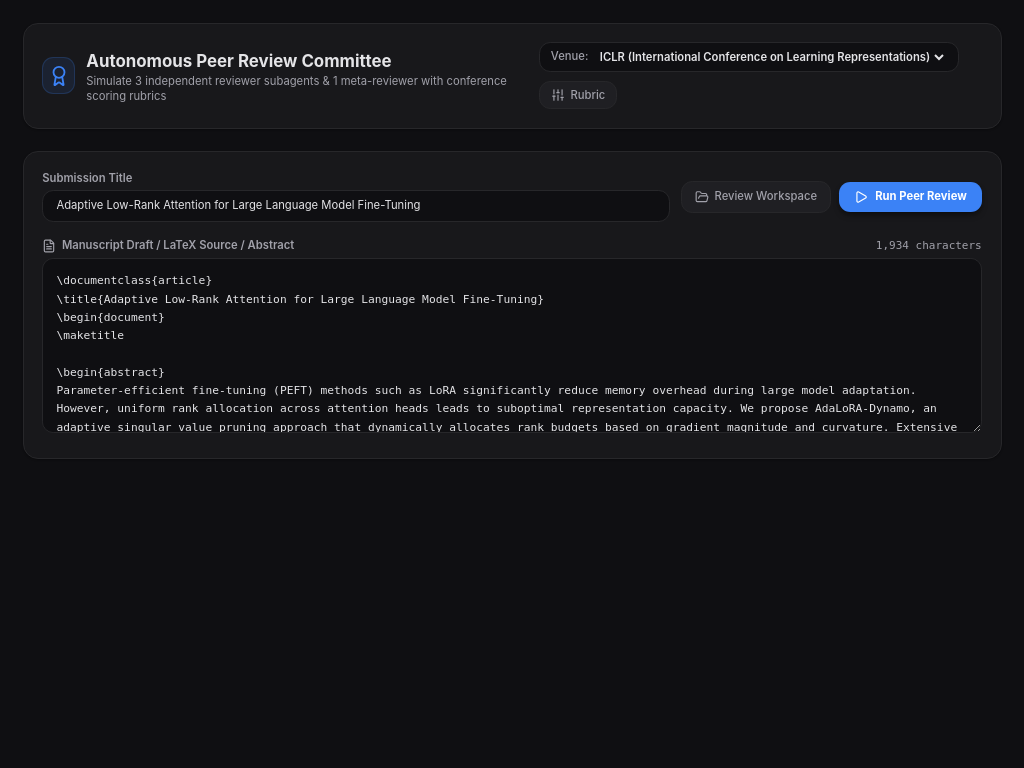
Test: PeerReviewStudio › executes peer review simulation and displays results
This screenshot has width=1024, height=768.
What coordinates should you click on to do the following:
click the button "Run Peer Review"
I would click on:
 (910, 196)
Its box is left=839, top=182, right=982, bottom=212.
(page scrolled)
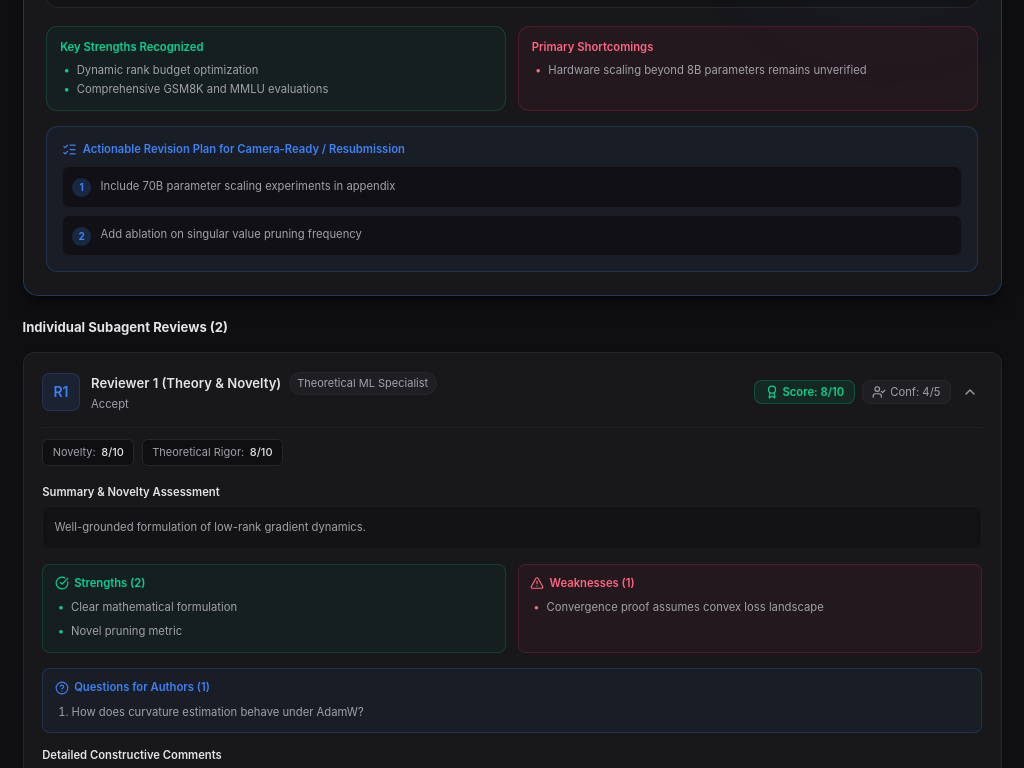
Result: the heading "Reviewer 1 (Theory & Novelty)" is shown at left=91, top=374, right=281, bottom=393
